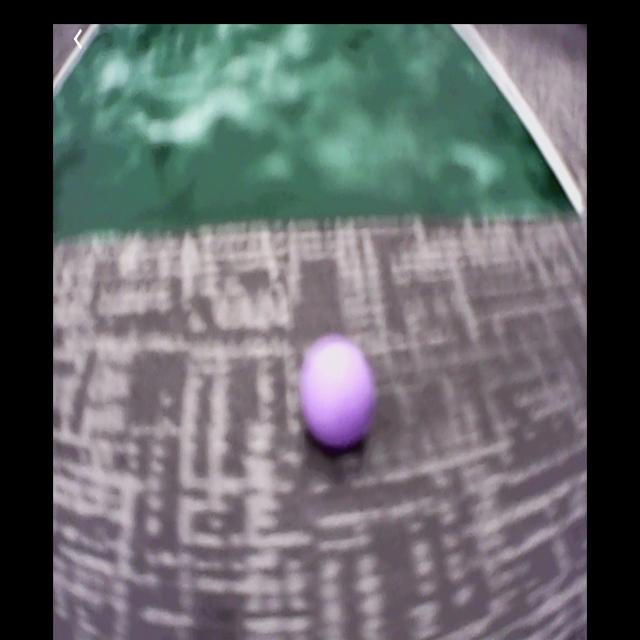ball: (303, 332, 379, 447)
